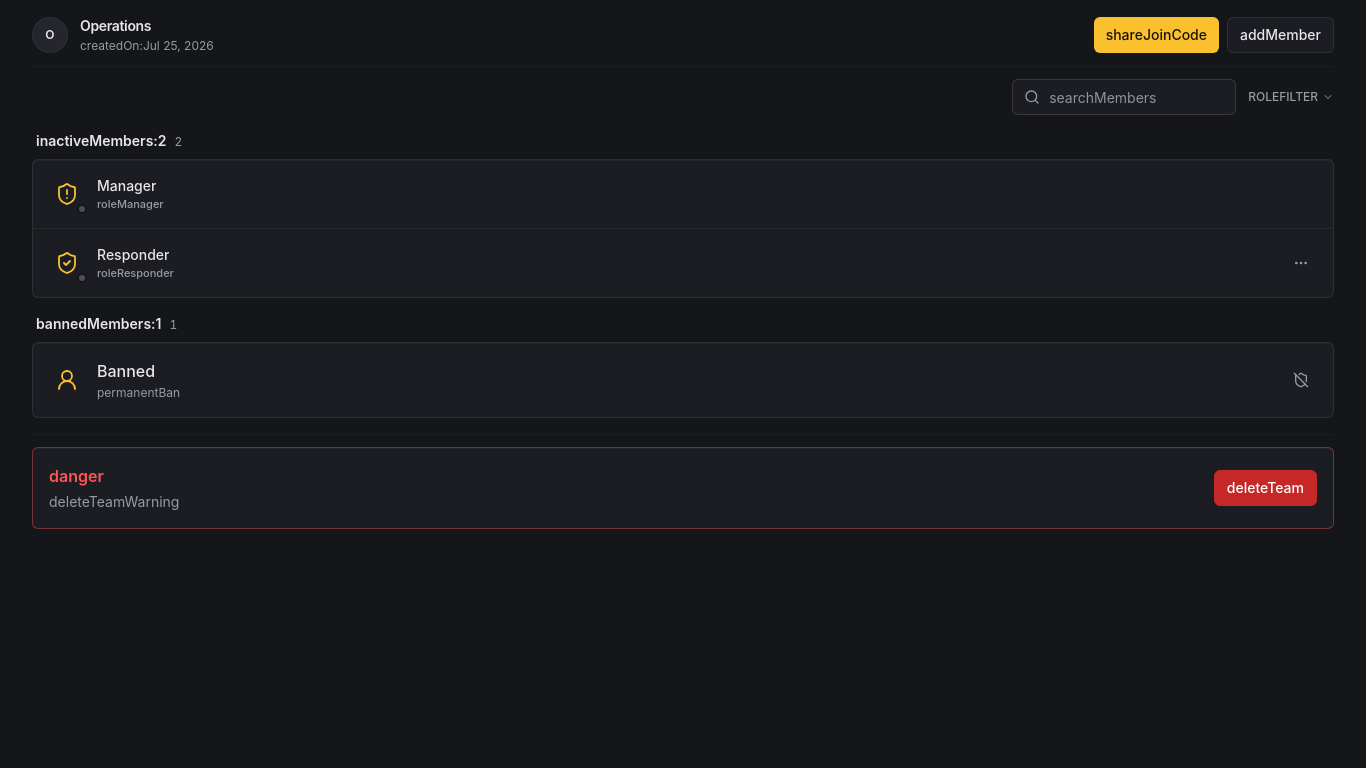
Scenario: TeamSettingsPage › keeps the join code behind the role-gated Team identity action
Check: the text "invite-secret" is not shown
Click the button "shareJoinCode": [1156, 35] box [1094,17,1219,53]
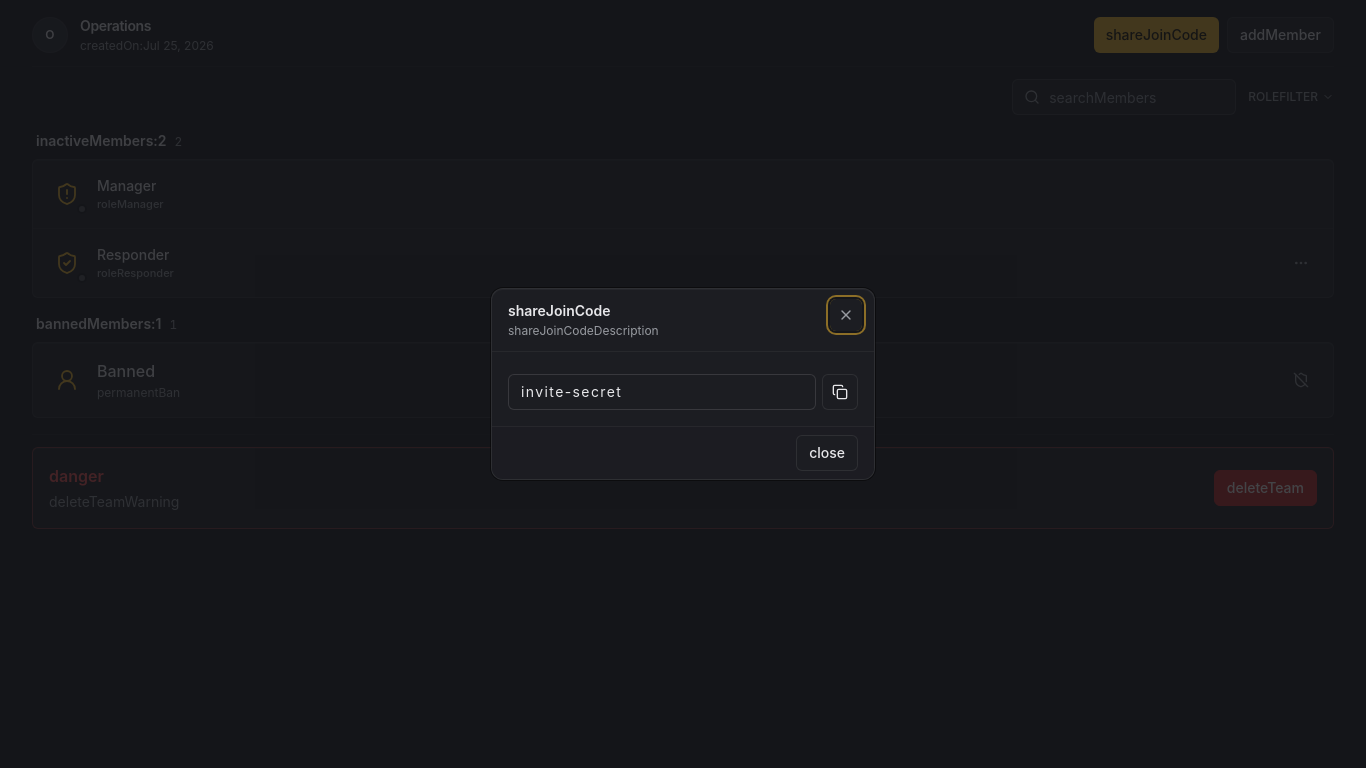
Check: the dialog "shareJoinCode" is shown, box [491,288,875,480]
Check: the text "invite-secret" is shown, box [508,374,816,410]
